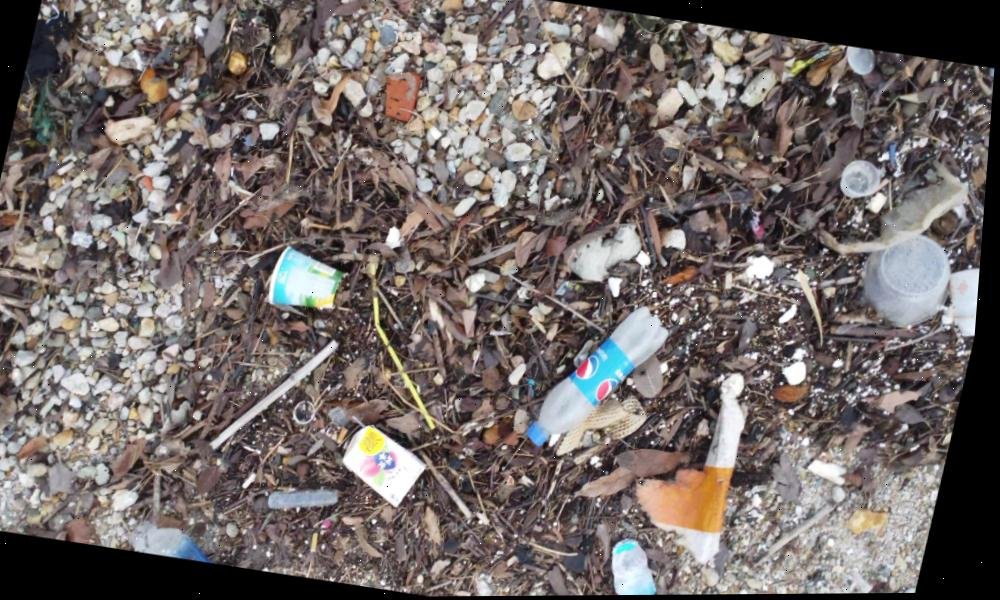carton: (345, 429, 437, 510), (267, 246, 357, 326)
plastic bottle: (528, 292, 679, 464)
plastic container: (858, 228, 967, 337)
